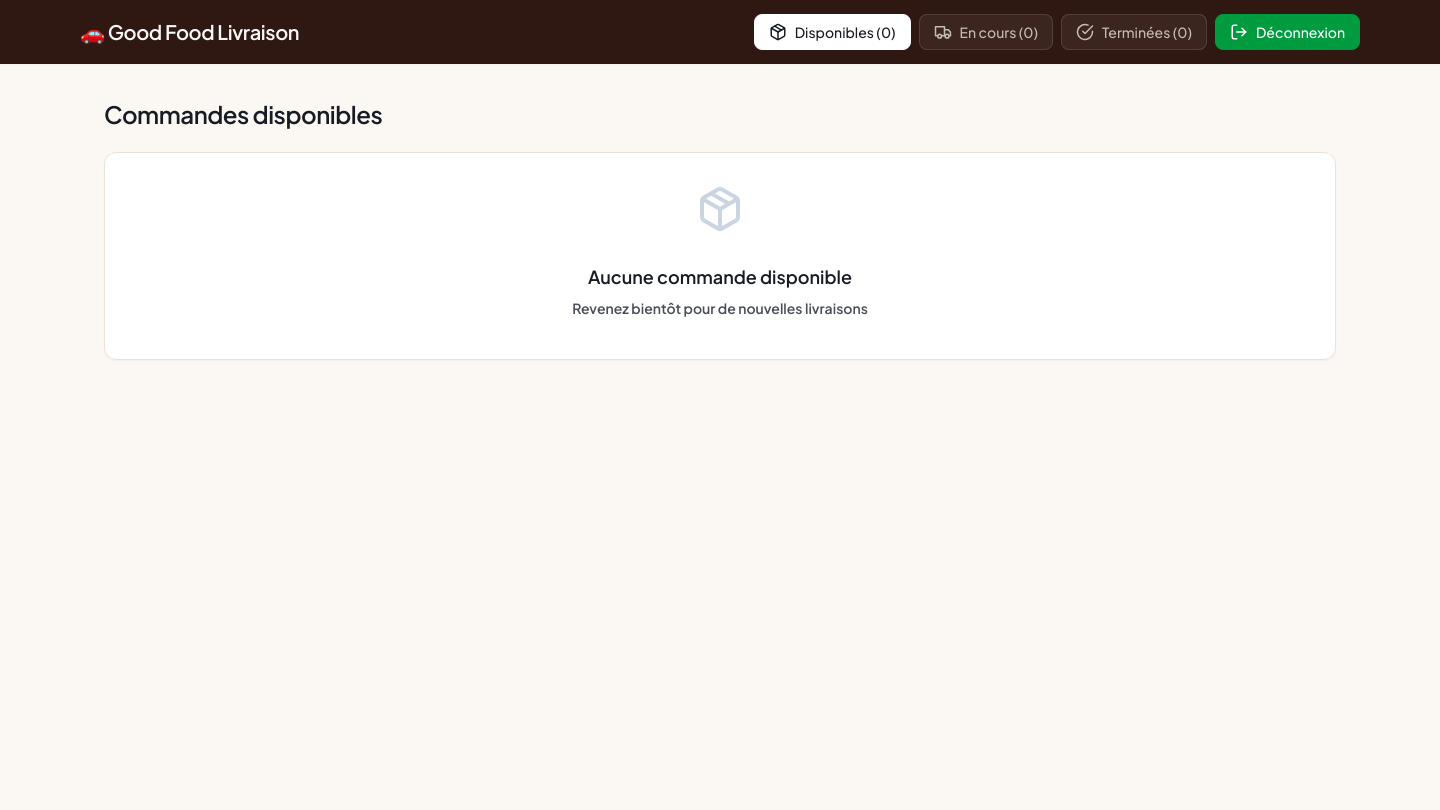
Scenario: DeliveryDashboard Component › switches to my deliveries view
Check: the heading "Commandes disponibles" is shown, box left=104, top=99, right=382, bottom=129
Click the button "En cours (0)".
click(986, 32)  # box left=918, top=14, right=1053, bottom=50
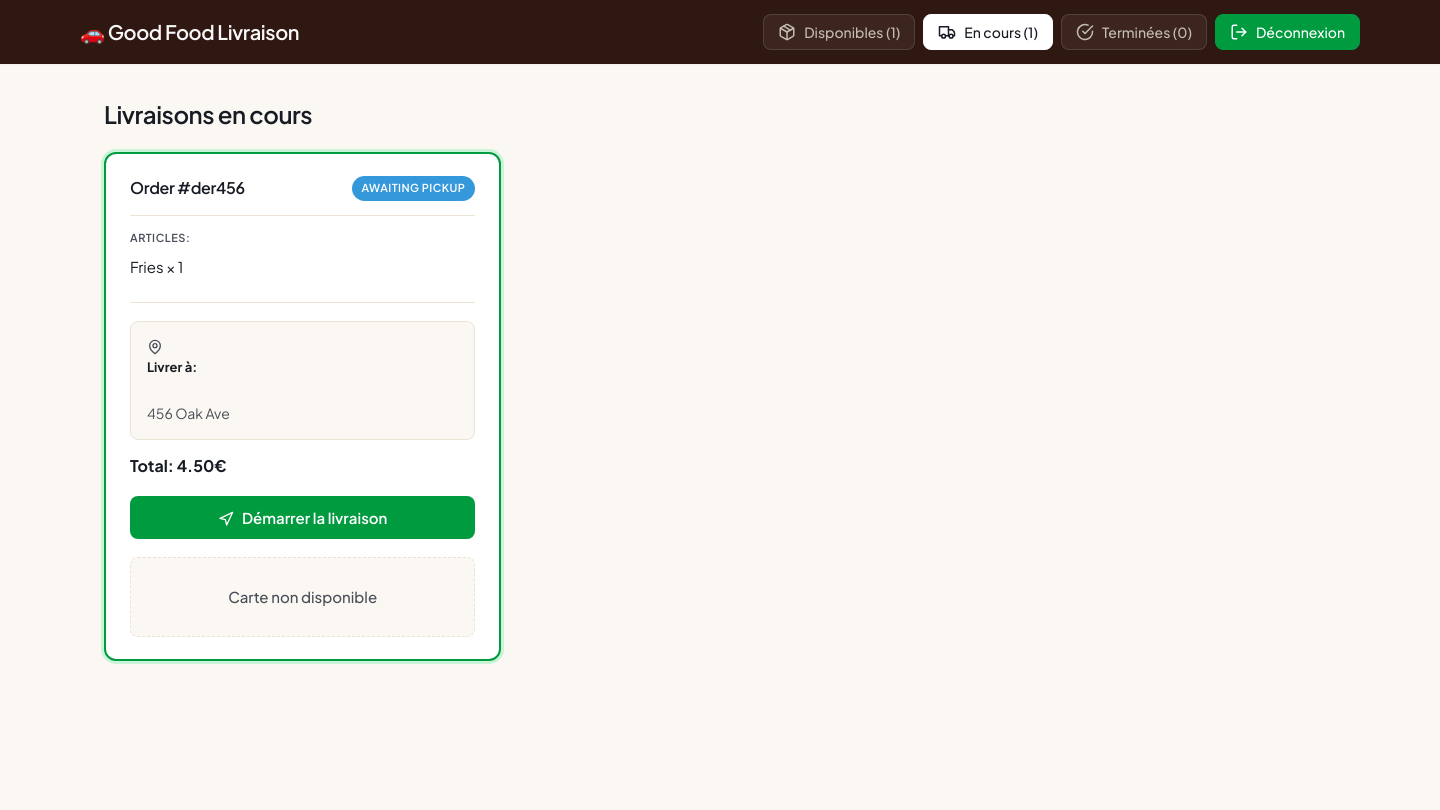
Check: the text "456 Oak Ave" is shown, box left=147, top=404, right=230, bottom=422
